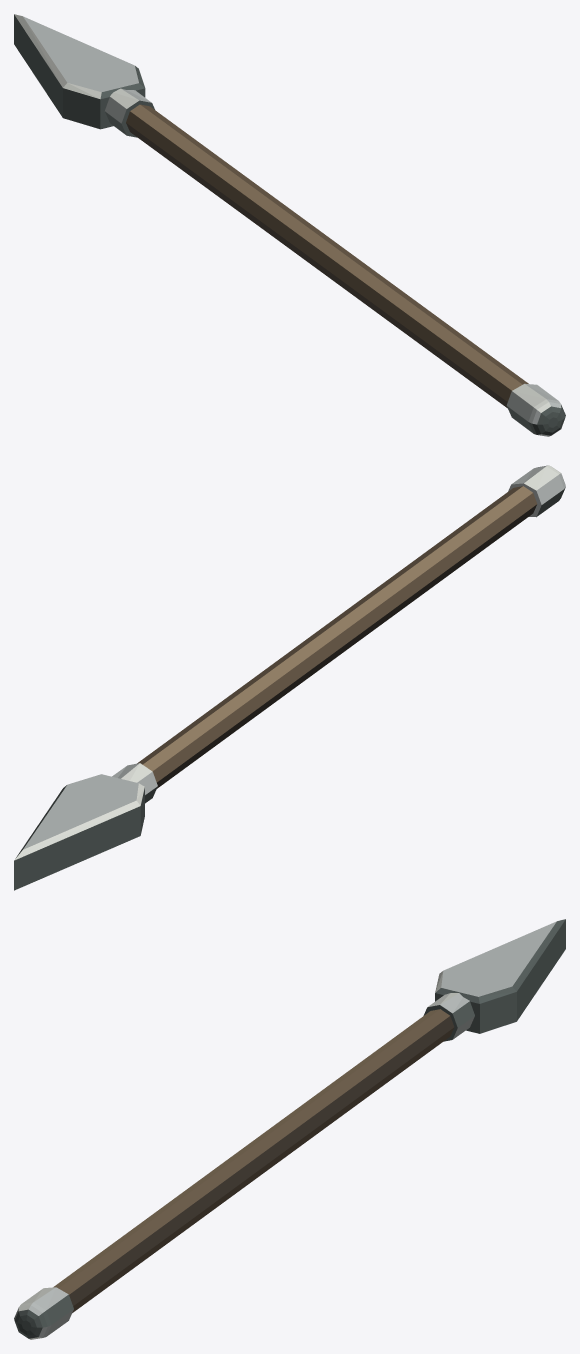
The model's file is stone_spear.fbx.
The picture shows the model from 3 angles, top to bottom: view 1: azimuth 30°, elevation 25°; view 2: azimuth 150°, elevation 25°; view 3: azimuth 330°, elevation 25°; orthographic projection.
Visible parts, largest first — view 1: stone_spear; view 2: stone_spear; view 3: stone_spear.
Boxes of the visible parts, box(x1,y1,x2,y2) form: stone_spear: box(14, 14, 565, 436); stone_spear: box(14, 465, 565, 890); stone_spear: box(14, 919, 565, 1339).
Size of the model in its own units: 0.2566 by 0.12 by 3.12.
Materials: 1 (1 with a texture image).
